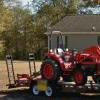Tractor: (26, 25, 100, 87)
